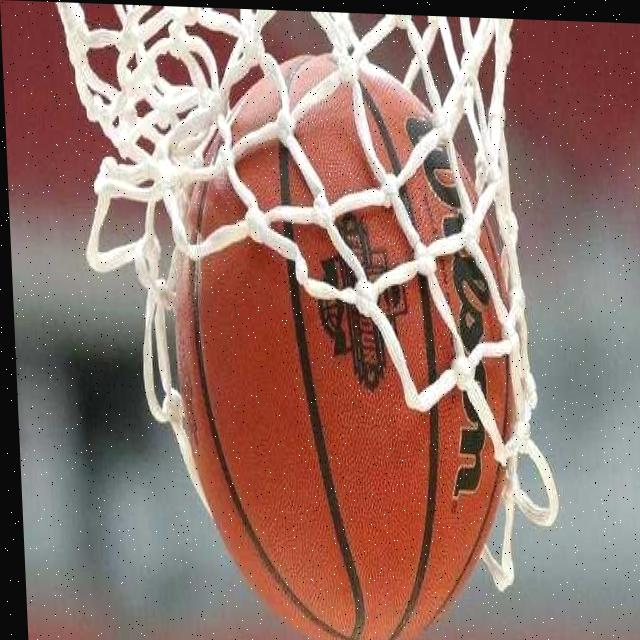Goal: (162, 47, 531, 640)
